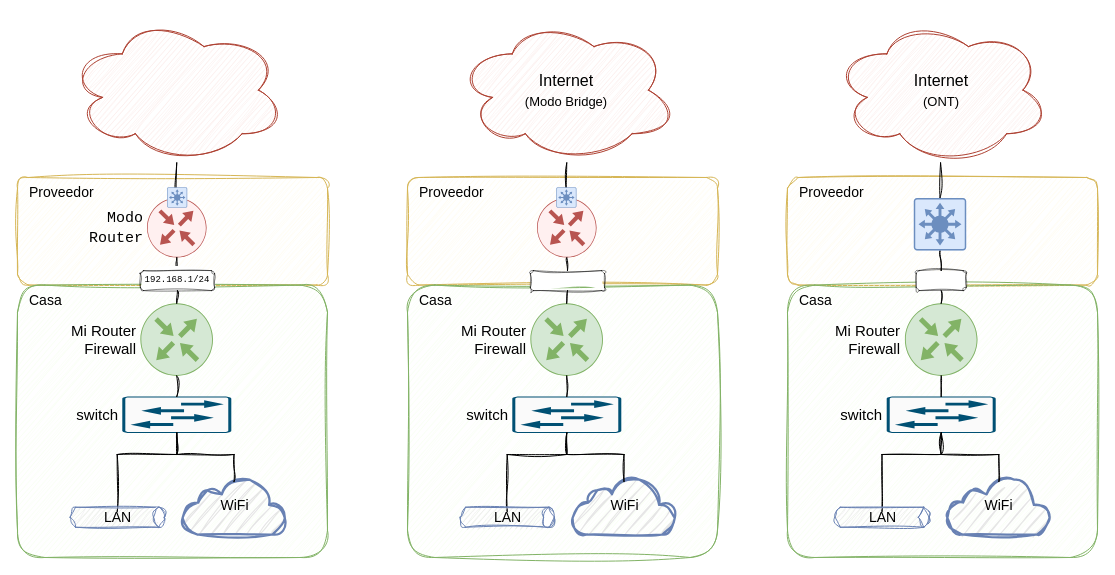
Image size: 1115x575. Some labels were removed from this diagram. The centre of each missing label's shape, as x and y in pixels:
Internet (Estándar): [176,89]
Modo Bridge: [566,227]
ONT: [939,223]
VLANs: [567,280]
VLANs ppp: [941,280]
